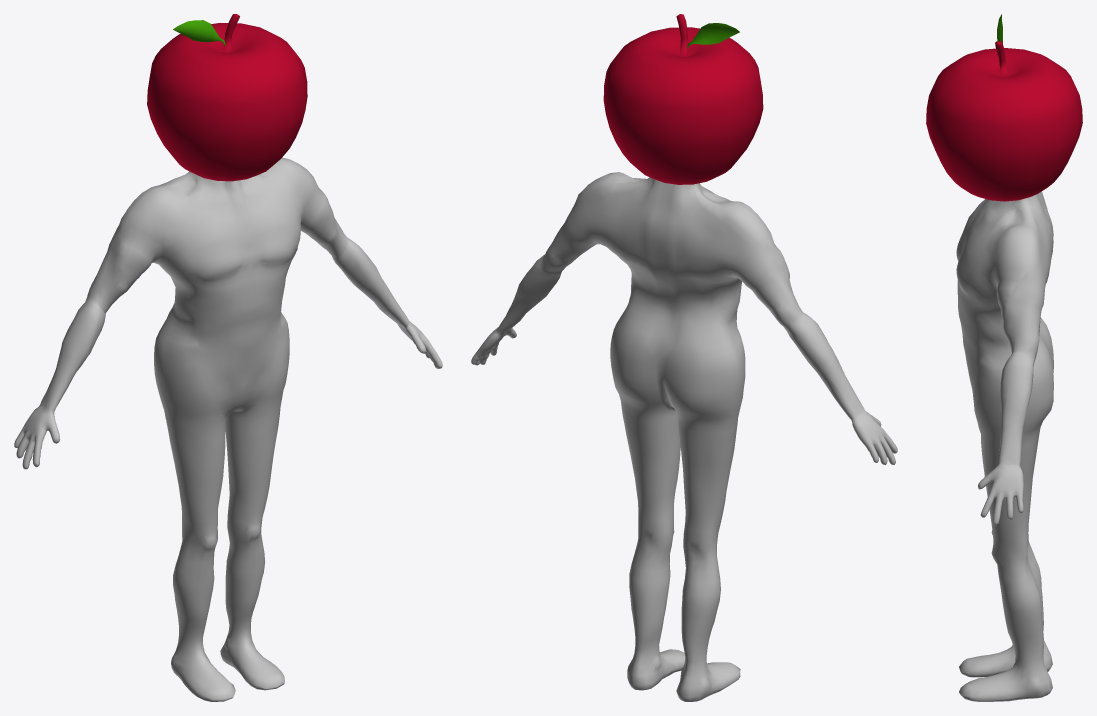
Rendered from appleHuman.fbx.
3 renders of one model, left to right at view 1: azimuth 30°, elevation 25°; view 2: azimuth 150°, elevation 25°; view 3: azimuth 270°, elevation 25°, orthographic. The views are drawn at different scales.
Visible parts, largest first — view 1: body_mesh, apple_mesh; view 2: body_mesh, apple_mesh; view 3: body_mesh, apple_mesh.
Part boxes in pixels (x1,y1,x2,y2): body_mesh: [14, 157, 442, 701]; apple_mesh: [147, 14, 307, 181]; body_mesh: [471, 172, 897, 701]; apple_mesh: [603, 14, 763, 184]; body_mesh: [956, 191, 1053, 701]; apple_mesh: [926, 14, 1082, 201].
Size of the model in its own units: 117 by 180 by 39.51.
